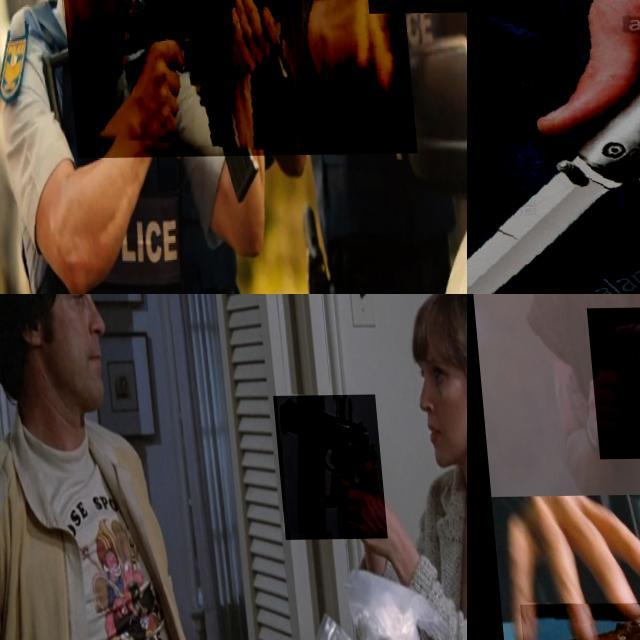-: (467, 0, 640, 294)
gun-knife-thesis - v11 Yolov5 augmented: (51, 0, 409, 158), (344, 0, 467, 137), (268, 396, 380, 541), (125, 0, 353, 68), (584, 307, 640, 459)
